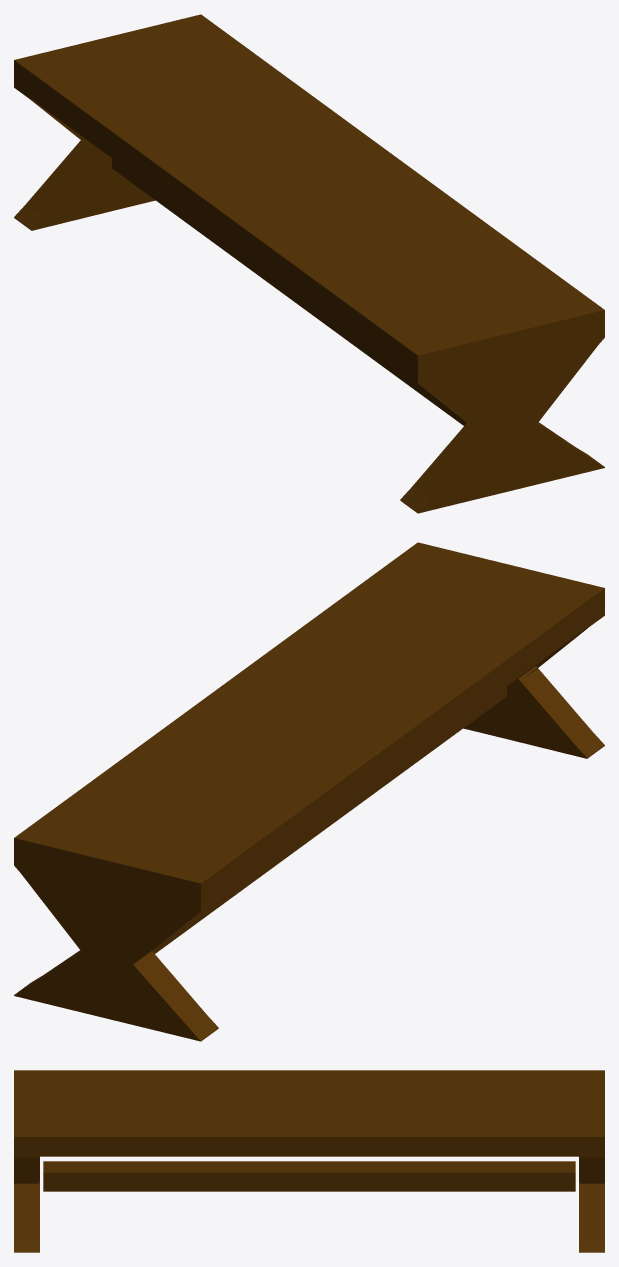
The model's file is banco.fbx.
3 renders of one model, top to bottom at view 1: azimuth 30°, elevation 25°; view 2: azimuth 150°, elevation 25°; view 3: azimuth 270°, elevation 25°, orthographic. The views are drawn at different scales.
Parts seen in each view (by area): view 1: Cube, Cube.001; view 2: Cube, Cube.001; view 3: Cube, Cube.001.
Boxes of the visible parts, box(x1,y1,x2,y2) form: Cube: box(14, 14, 604, 513); Cube.001: box(112, 158, 466, 425); Cube: box(14, 542, 604, 1041); Cube.001: box(152, 686, 506, 953); Cube: box(14, 1070, 604, 1252); Cube.001: box(43, 1161, 575, 1191).
Size of the model in its own units: 172 by 139 by 642.
